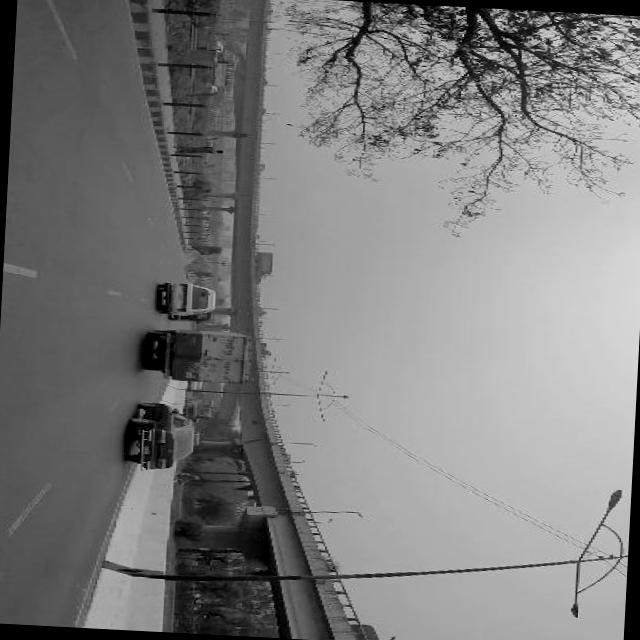bus: (186, 397, 218, 419)
car: (130, 399, 197, 472)
motorcycle: (172, 470, 204, 488)
truck: (144, 325, 257, 385), (157, 280, 220, 316), (258, 250, 276, 282), (190, 380, 202, 390)
